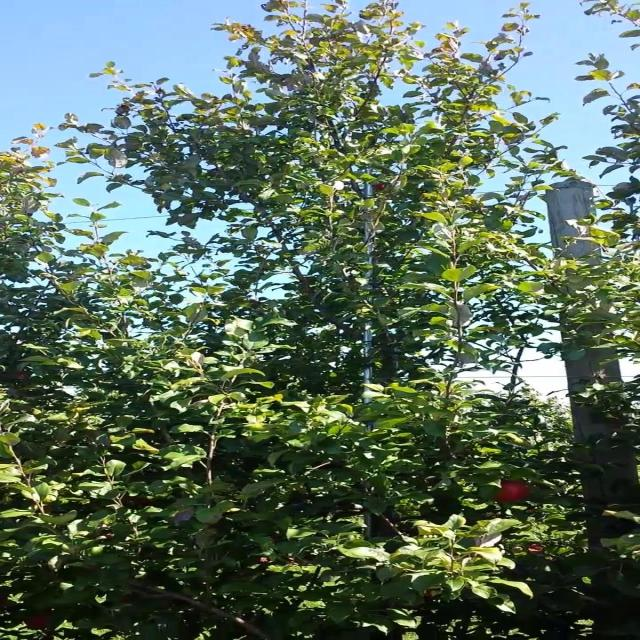apple: (497, 480, 533, 504), (28, 612, 53, 631), (13, 372, 28, 380), (376, 184, 386, 192)
